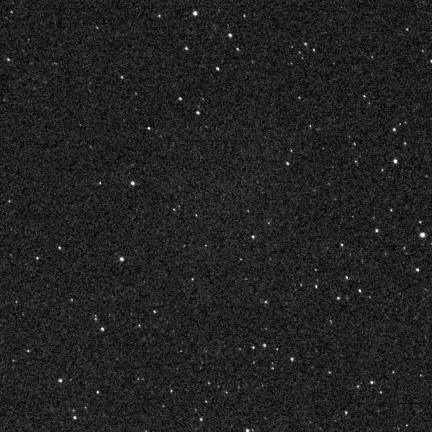blob: (193, 11, 198, 17), (420, 233, 426, 238), (131, 181, 134, 185), (394, 159, 397, 163)
